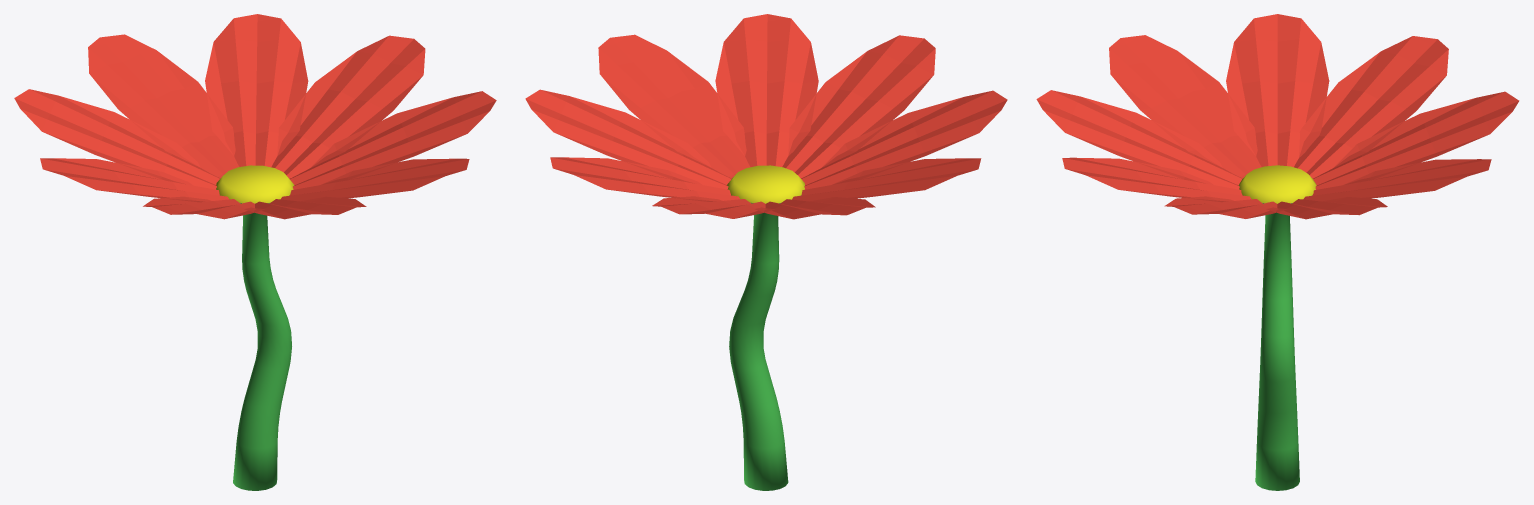
File: Flower.fbx
3 renders of one model, left to right at view 1: azimuth 30°, elevation 25°; view 2: azimuth 150°, elevation 25°; view 3: azimuth 270°, elevation 25°, orthographic.
Visible parts, largest first — view 1: Circle, Blossom; view 2: Circle, Blossom; view 3: Circle, Blossom.
Part boxes in pixels (x1,y1,x2,y2): Circle: (14, 14, 496, 219); Blossom: (216, 165, 294, 490); Circle: (525, 14, 1007, 219); Blossom: (727, 165, 804, 490); Circle: (1036, 14, 1519, 219); Blossom: (1238, 165, 1316, 490).
Bounding box in the file's own units: 767 × 647 × 778.
